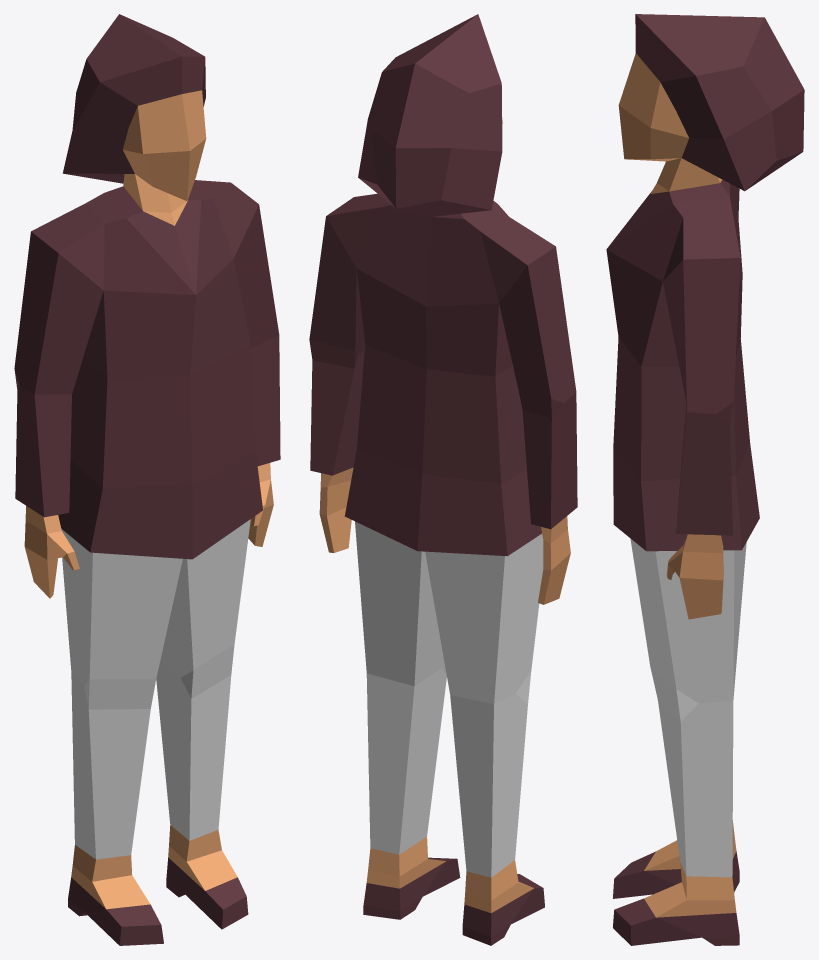
Rendered from woman-suit.fbx.
3 renders of one model, left to right at view 1: azimuth 30°, elevation 25°; view 2: azimuth 150°, elevation 25°; view 3: azimuth 270°, elevation 25°, orthographic. The views are drawn at different scales.
Visible parts, largest first — view 1: woman-suit; view 2: woman-suit; view 3: woman-suit.
Boxes of the visible parts, x1,y1,x2,y2 form: woman-suit: (14, 14, 280, 945); woman-suit: (309, 14, 577, 945); woman-suit: (606, 14, 804, 945).
Size of the model in its own units: 0.5502 by 1.86 by 0.3704.
